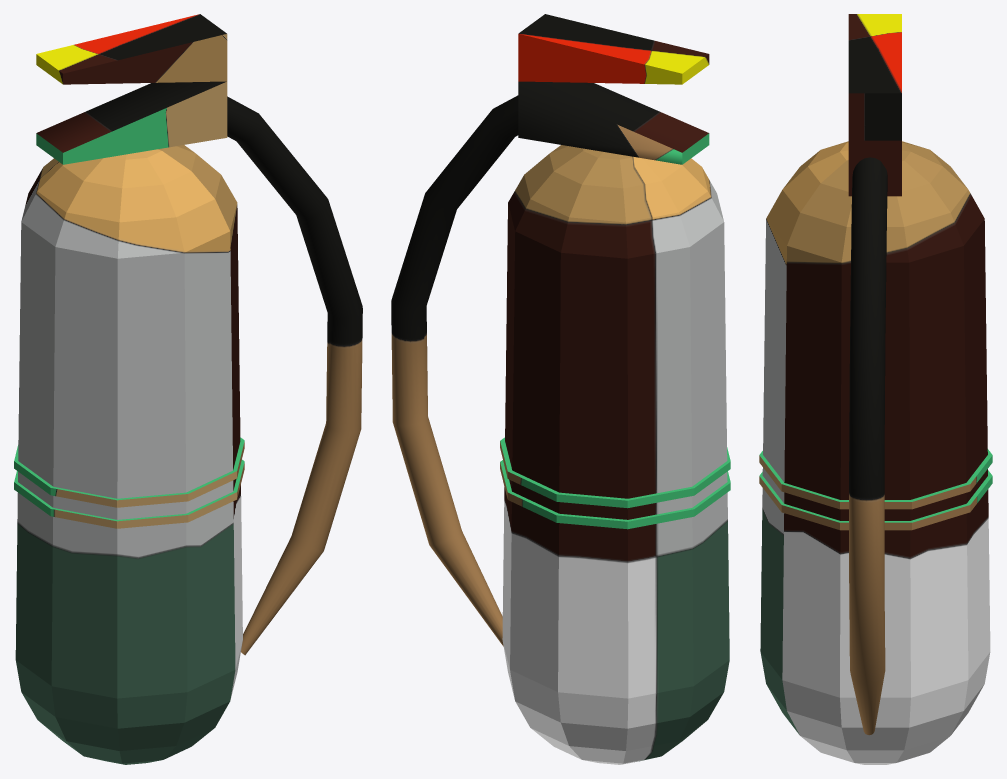
File: New Extinguisher Week 2.fbx
3 views of the same model, side by side, from view 1: azimuth 30°, elevation 25°; view 2: azimuth 150°, elevation 25°; view 3: azimuth 270°, elevation 25° (orthographic).
Visible parts, largest first — view 1: pCube6; view 2: pCube6; view 3: pCube6.
Boxes of the visible parts, bbox=[...] form: pCube6: bbox=[14, 14, 362, 764]; pCube6: bbox=[391, 14, 730, 764]; pCube6: bbox=[759, 14, 992, 764].
Size of the model in its own units: 11.57 by 24.28 by 7.3.
